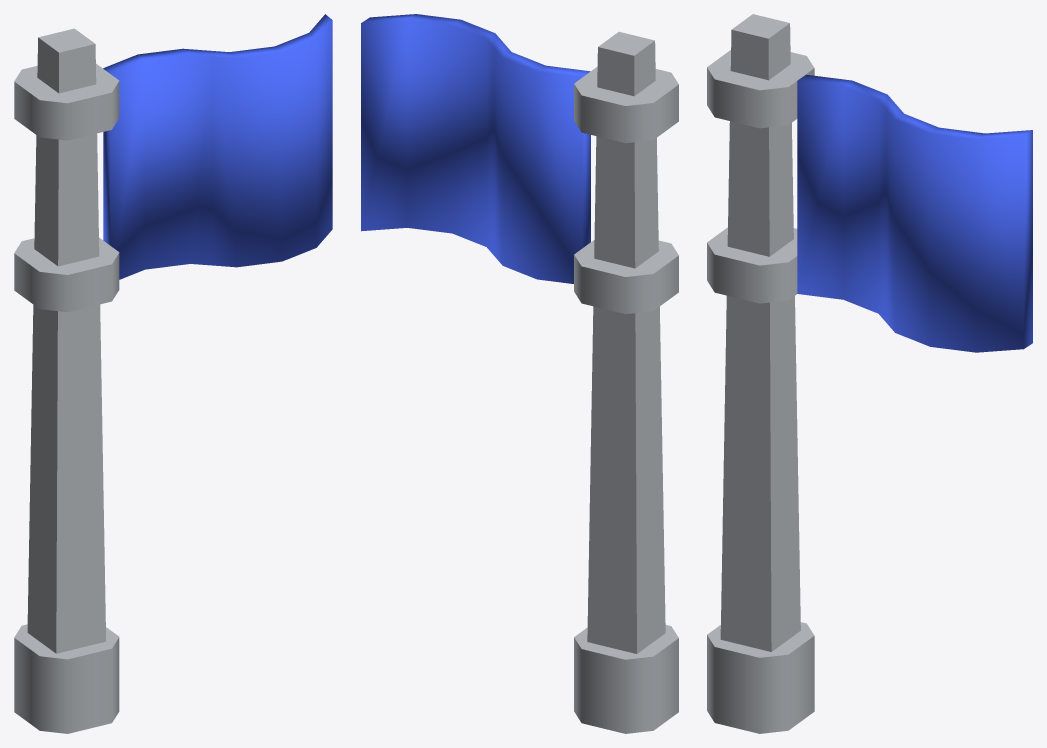
The model's file is RespawnPlatform.fbx.
The picture shows the model from 3 angles, left to right: view 1: azimuth 30°, elevation 25°; view 2: azimuth 150°, elevation 25°; view 3: azimuth 330°, elevation 25°; orthographic projection. The views are drawn at different scales.
Parts seen in each view (by area): view 1: flag; view 2: flag; view 3: flag.
Part boxes in pixels (box(x1,y1,x2,y2)): flag: box(14, 14, 332, 733); flag: box(361, 14, 678, 733); flag: box(707, 14, 1032, 733).
Size of the model in its own units: 21.23 by 45 by 5.8.
Materials: 1 (1 with a texture image).
